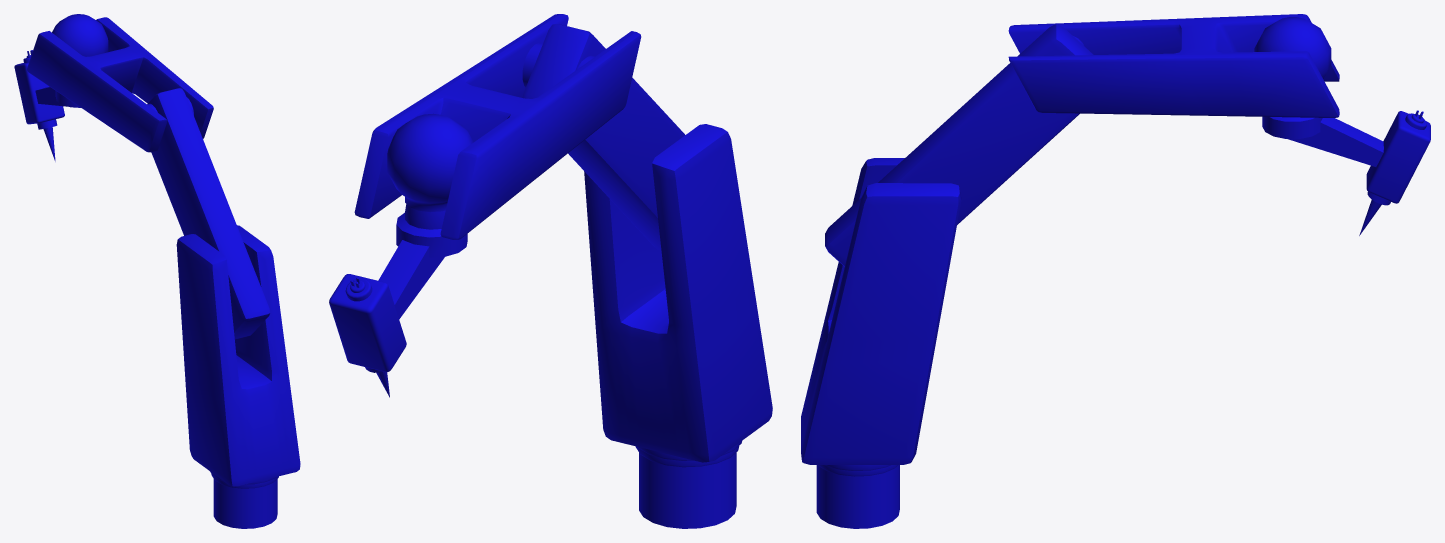
File: FabricatorTableArm.fbx
3 renders of one model, left to right at view 1: azimuth 30°, elevation 25°; view 2: azimuth 150°, elevation 25°; view 3: azimuth 270°, elevation 25°, orthographic. The views are drawn at different scales.
Visible parts, largest first — view 1: ArmBase, ArmEnd, ArmMiddle, Laser, FabricatorArmBase; view 2: ArmBase, ArmEnd, Laser, ArmMiddle, FabricatorArmBase; view 3: ArmBase, ArmEnd, ArmMiddle, Laser, FabricatorArmBase.
Boxes of the visible parts, x1,y1,x2,y2 form: ArmBase: [176, 225, 300, 486]; ArmEnd: [27, 17, 213, 152]; ArmMiddle: [147, 88, 269, 339]; Laser: [14, 14, 108, 161]; FabricatorArmBase: [210, 471, 278, 528]; ArmBase: [584, 124, 772, 462]; ArmEnd: [354, 14, 641, 239]; Laser: [329, 113, 473, 397]; ArmMiddle: [522, 24, 684, 250]; FabricatorArmBase: [635, 441, 741, 528]; ArmBase: [801, 158, 961, 464]; ArmEnd: [1008, 14, 1339, 117]; ArmMiddle: [825, 24, 1093, 266]; Laser: [1254, 17, 1430, 235]; FabricatorArmBase: [816, 465, 899, 528].
Bounding box in the file's own units: 5.94 × 29.68 × 34.51.
